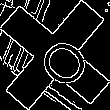O_NW: (22, 22, 88, 88)
